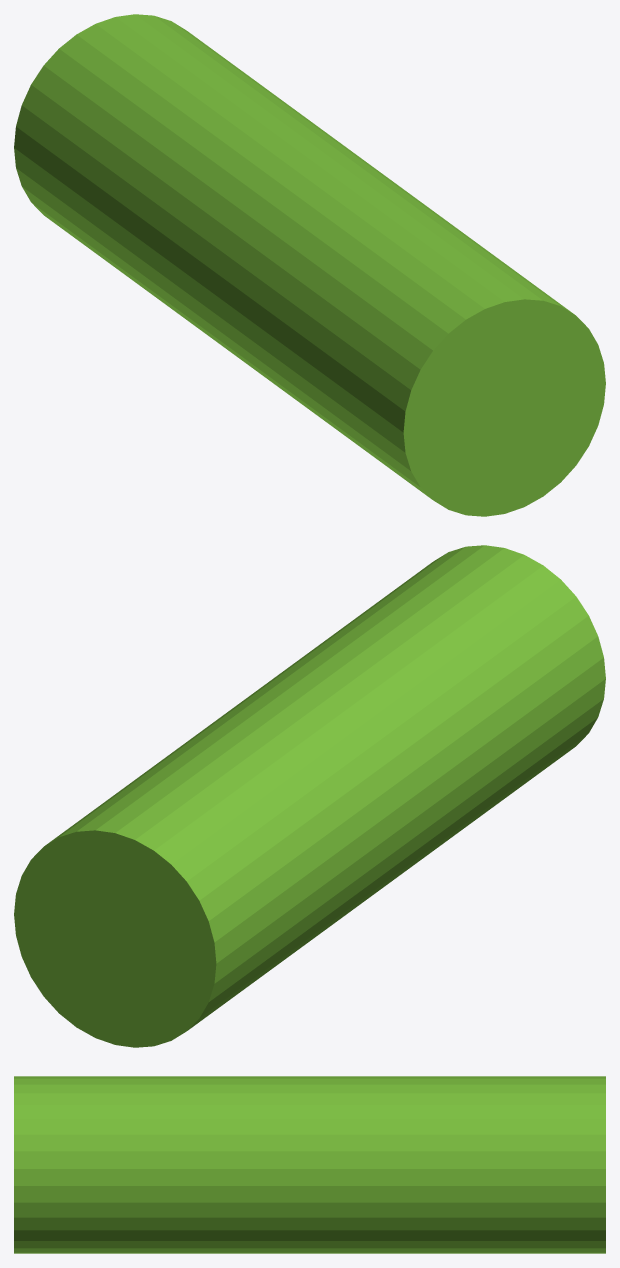
3 views of the same model, one above another, from view 1: azimuth 30°, elevation 25°; view 2: azimuth 150°, elevation 25°; view 3: azimuth 270°, elevation 25° (orthographic). The views are drawn at different scales.
Parts seen in each view (by area): view 1: cylinder_1; view 2: cylinder_1; view 3: cylinder_1.
Boxes of the visible parts, box(x1,y1,x2,y2) form: cylinder_1: box(14, 14, 605, 516); cylinder_1: box(14, 545, 605, 1047); cylinder_1: box(14, 1076, 605, 1253).
Bounding box in the file's own units: 0.06 × 0.06 × 0.2.
